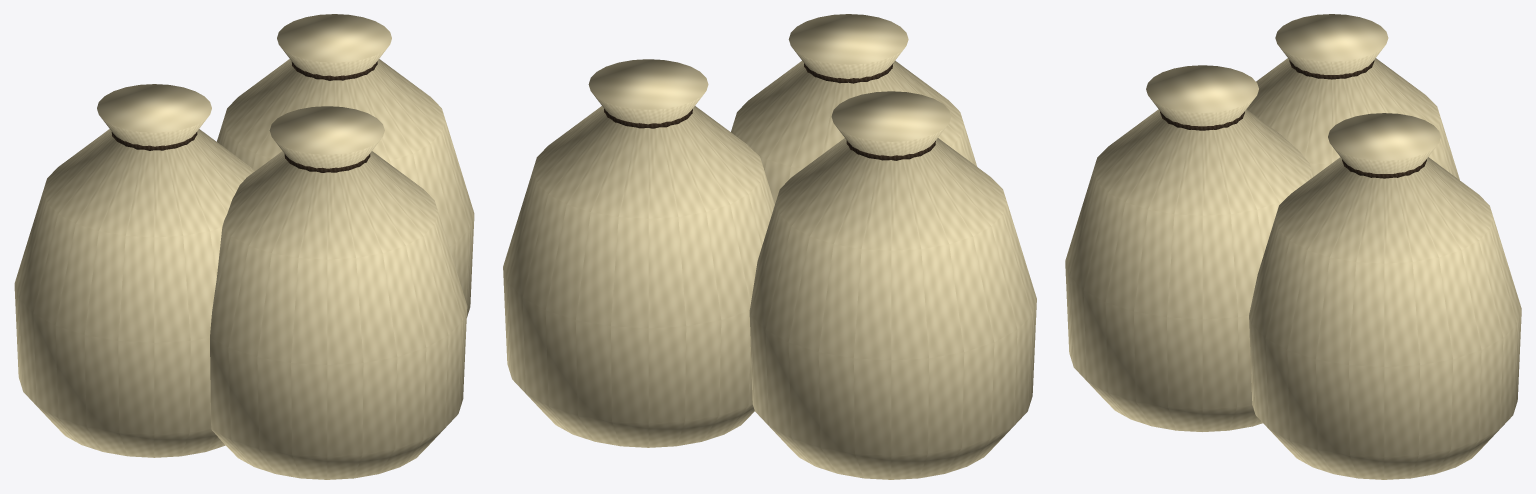
The model's file is cargo_sacks.glb.
3 views of the same model, side by side, from view 1: azimuth 30°, elevation 25°; view 2: azimuth 150°, elevation 25°; view 3: azimuth 270°, elevation 25° (orthographic). The views are drawn at different scales.
Visible parts, largest first — view 1: cargo_sacks_Goods, cargo_sacks_Structure; view 2: cargo_sacks_Goods, cargo_sacks_Structure; view 3: cargo_sacks_Goods, cargo_sacks_Structure.
Part boxes in pixels (box(x1,y1,x2,y2)): cargo_sacks_Goods: box(14, 14, 474, 479); cargo_sacks_Structure: box(111, 61, 377, 172); cargo_sacks_Goods: box(503, 14, 1036, 479); cargo_sacks_Structure: box(604, 63, 935, 160); cargo_sacks_Goods: box(1065, 14, 1521, 479); cargo_sacks_Structure: box(1160, 60, 1426, 178).
Size of the model in its own units: 1.26 by 0.82 by 1.13.
Materials: 1 (1 with a texture image).
